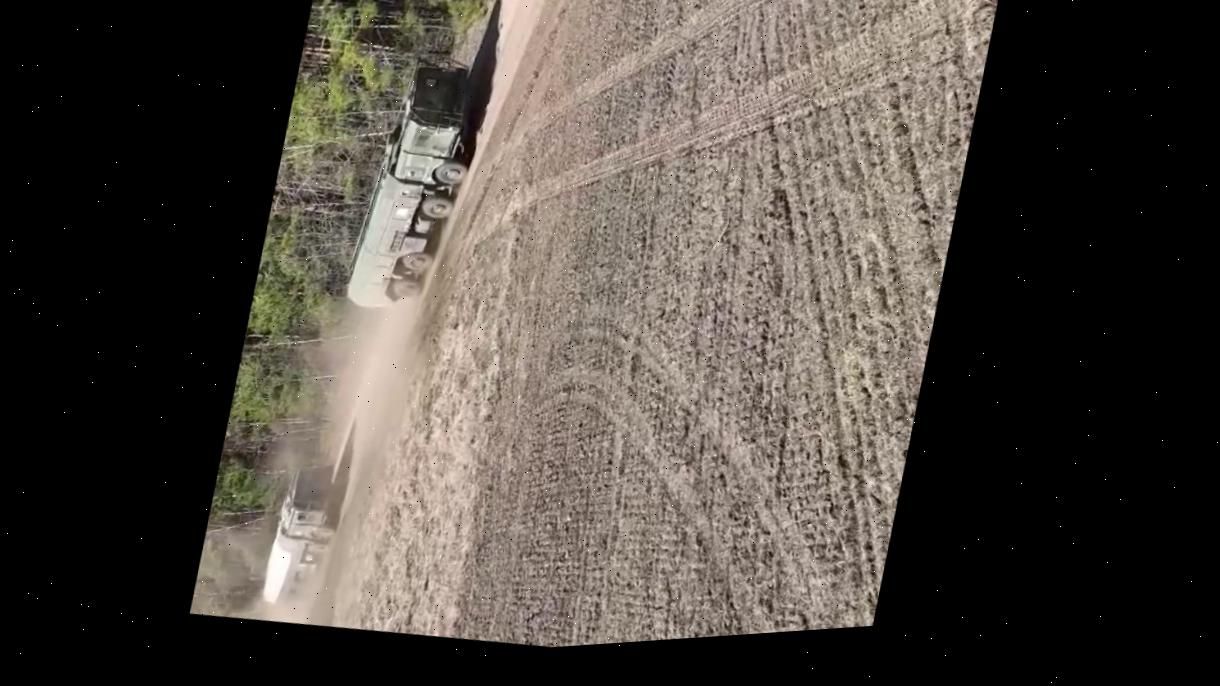rszo: (339, 51, 491, 322), (258, 455, 349, 611)
